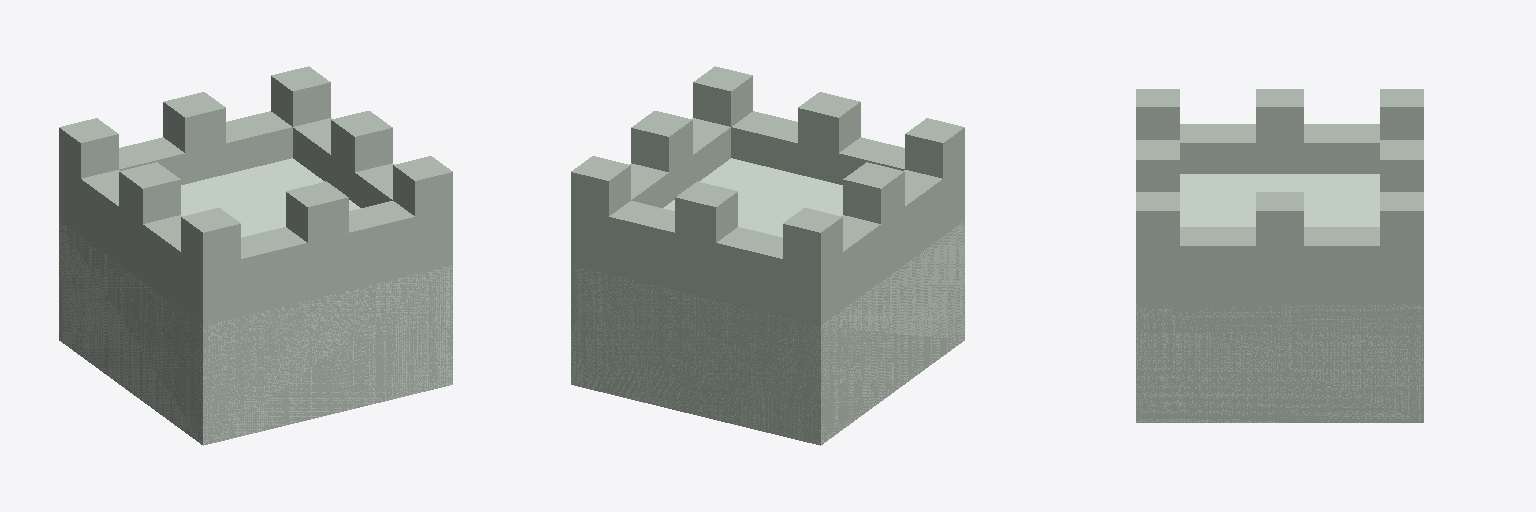
File: tile_024.obj
3 views of the same model, side by side, from view 1: azimuth 30°, elevation 25°; view 2: azimuth 150°, elevation 25°; view 3: azimuth 270°, elevation 25° (orthographic).
Visible parts, largest first — view 1: tile_024; view 2: tile_024; view 3: tile_024.
Boxes of the visible parts, box(x1,y1,x2,y2) form: tile_024: box(59, 66, 452, 445); tile_024: box(571, 66, 964, 445); tile_024: box(1136, 89, 1423, 422).
Bounding box in the file's own units: 0.5901 × 0.48 × 0.5901.